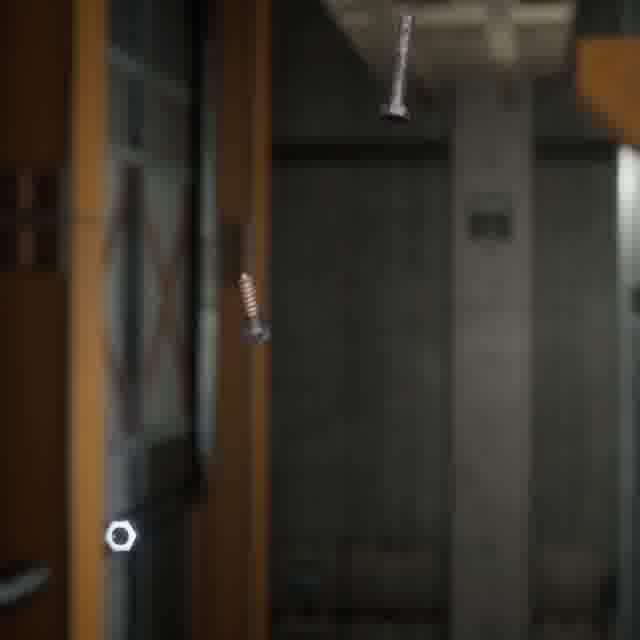bolt: (375, 10, 419, 127), (233, 267, 275, 348)
nut: (99, 515, 144, 556)
